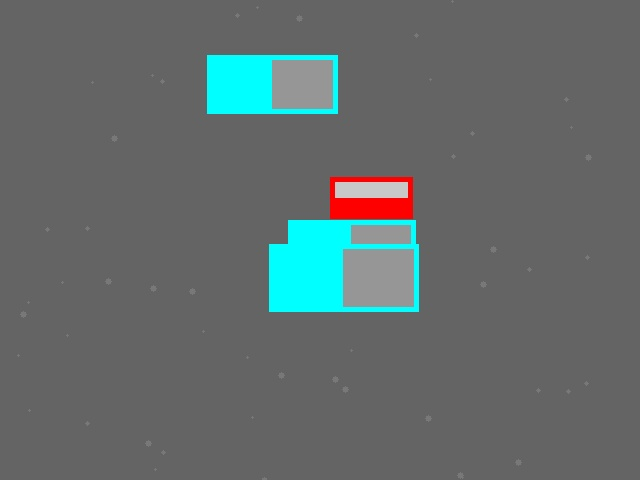car: (330, 177, 412, 218)
truck: (269, 244, 418, 311), (207, 55, 337, 113), (288, 220, 415, 277)
